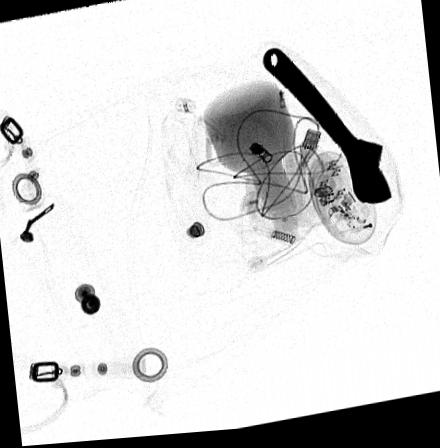Wrench: (262, 50, 394, 212)
